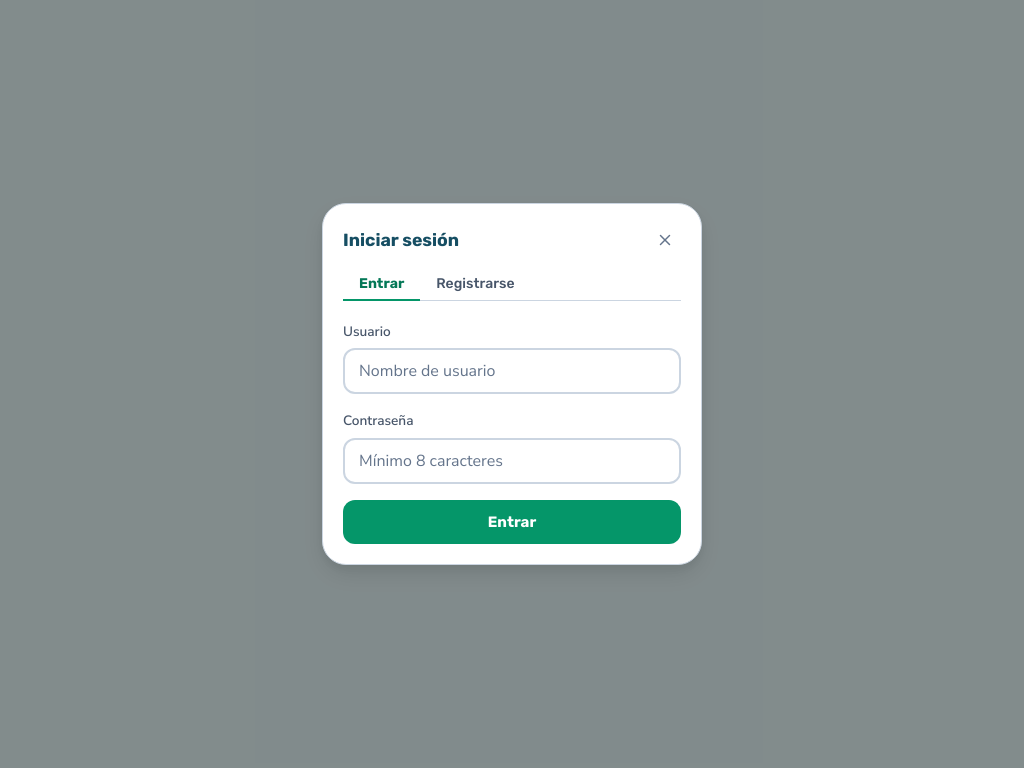
LoginModal › shows the error when login fails
Type "carlos" into the field labelled "Usuario".
click(512, 371); type("carlos")  # box [343,348,681,394]
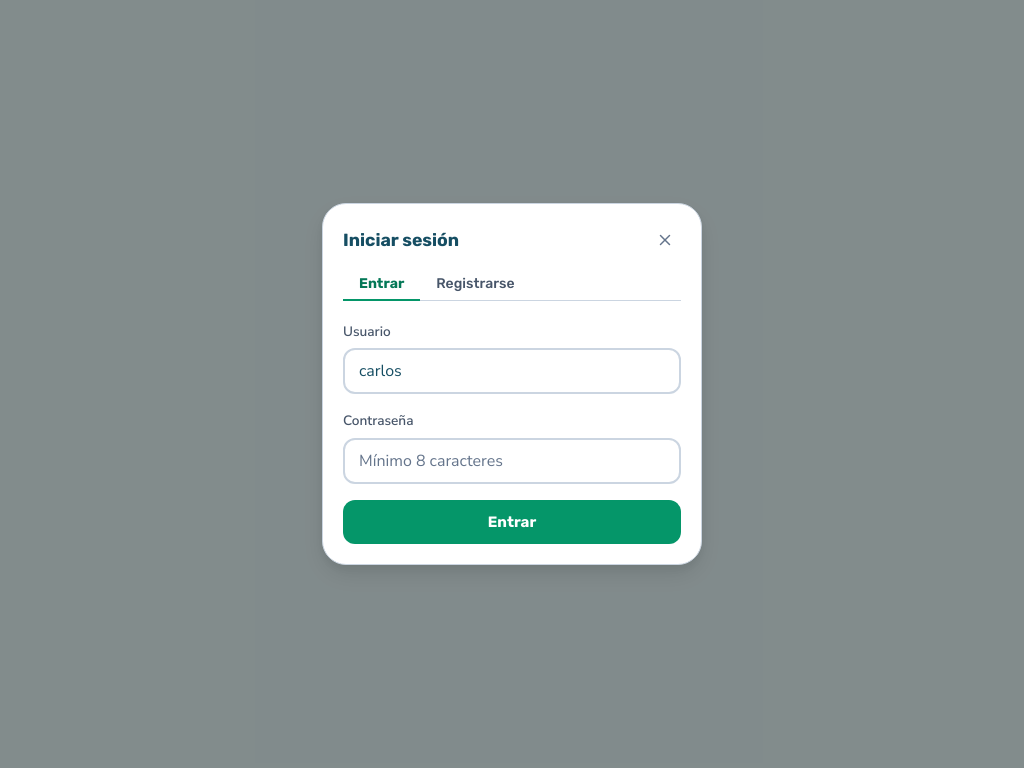
Type "wrongpass" into the password field labelled "Contraseña".
click(512, 461); type("wrongpass")  # box [343,438,681,484]
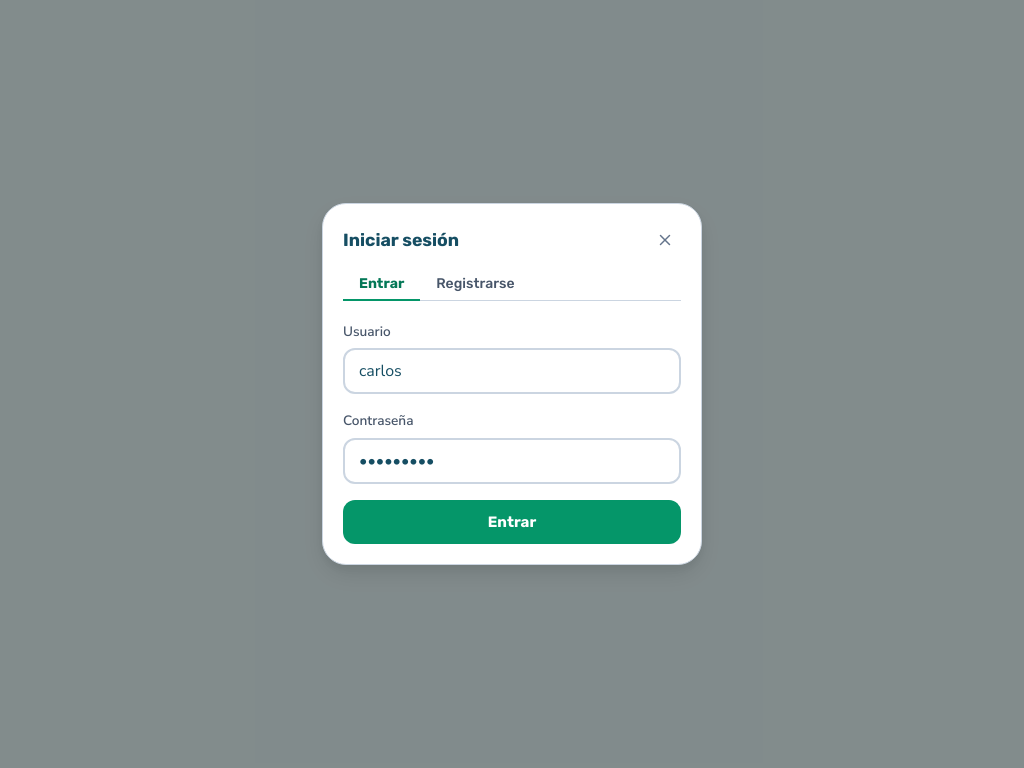
Click the submit button.
click(512, 522)  # box [343,500,681,544]
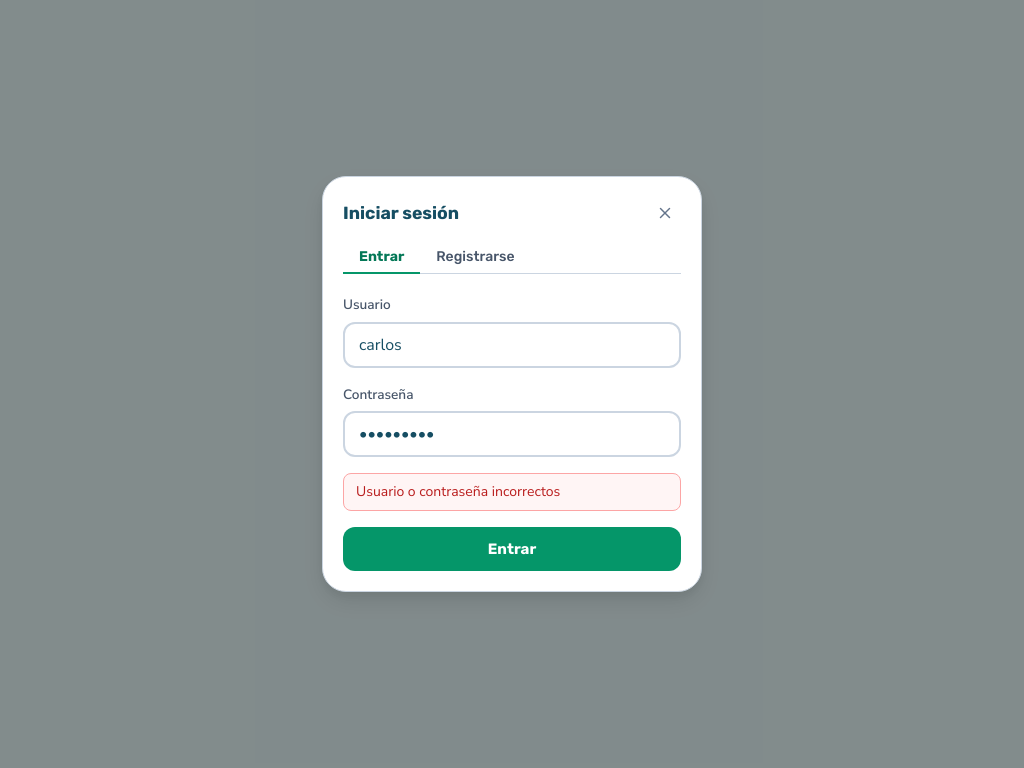
Expected: the message reads "Usuario o contraseña incorrectos", [356,482,560,501]
